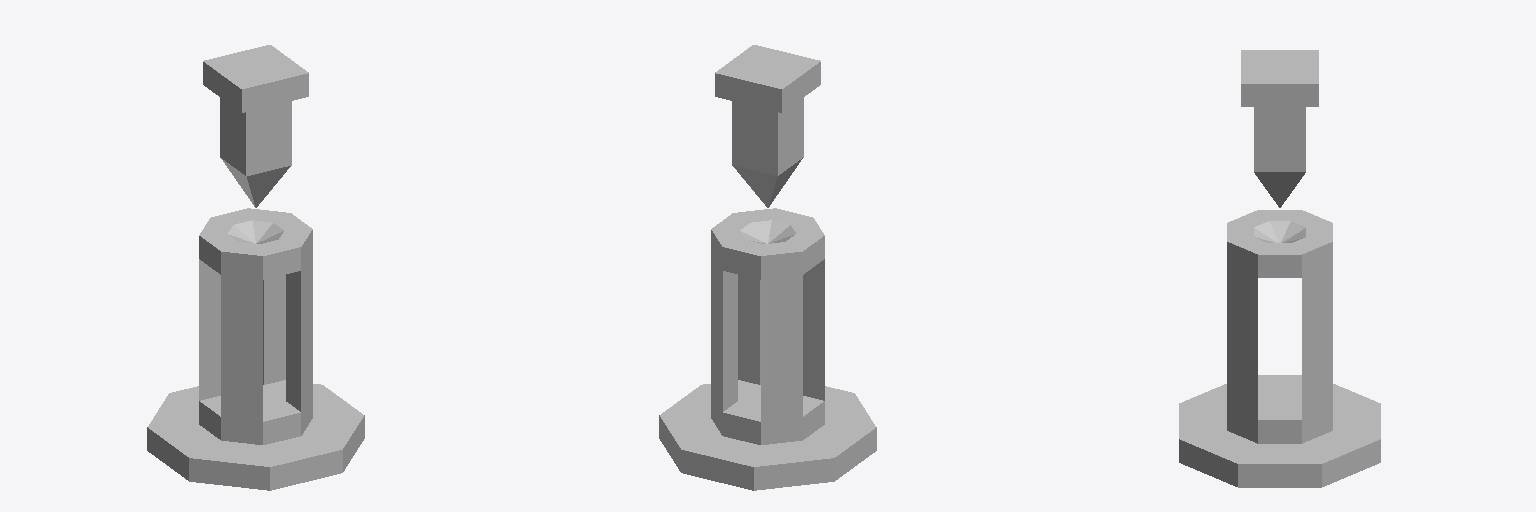
File: manaweaving_projector_inventory.obj
3 views of the same model, side by side, from view 1: azimuth 30°, elevation 25°; view 2: azimuth 150°, elevation 25°; view 3: azimuth 270°, elevation 25° (orthographic).
Visible parts, largest first — view 1: MAIN_BODY_Cylinder, SHAPE_PEDESTAL_Cube.010; view 2: MAIN_BODY_Cylinder, SHAPE_PEDESTAL_Cube.010; view 3: MAIN_BODY_Cylinder, SHAPE_PEDESTAL_Cube.010.
Part boxes in pixels (x1,y1,x2,y2): MAIN_BODY_Cylinder: (147,208,364,490); SHAPE_PEDESTAL_Cube.010: (203,45,308,207); MAIN_BODY_Cylinder: (659,208,876,490); SHAPE_PEDESTAL_Cube.010: (715,45,820,207); MAIN_BODY_Cylinder: (1179,210,1380,487); SHAPE_PEDESTAL_Cube.010: (1241,50,1318,207).
Bounding box in the file's own units: 0.485 × 1 × 0.485.